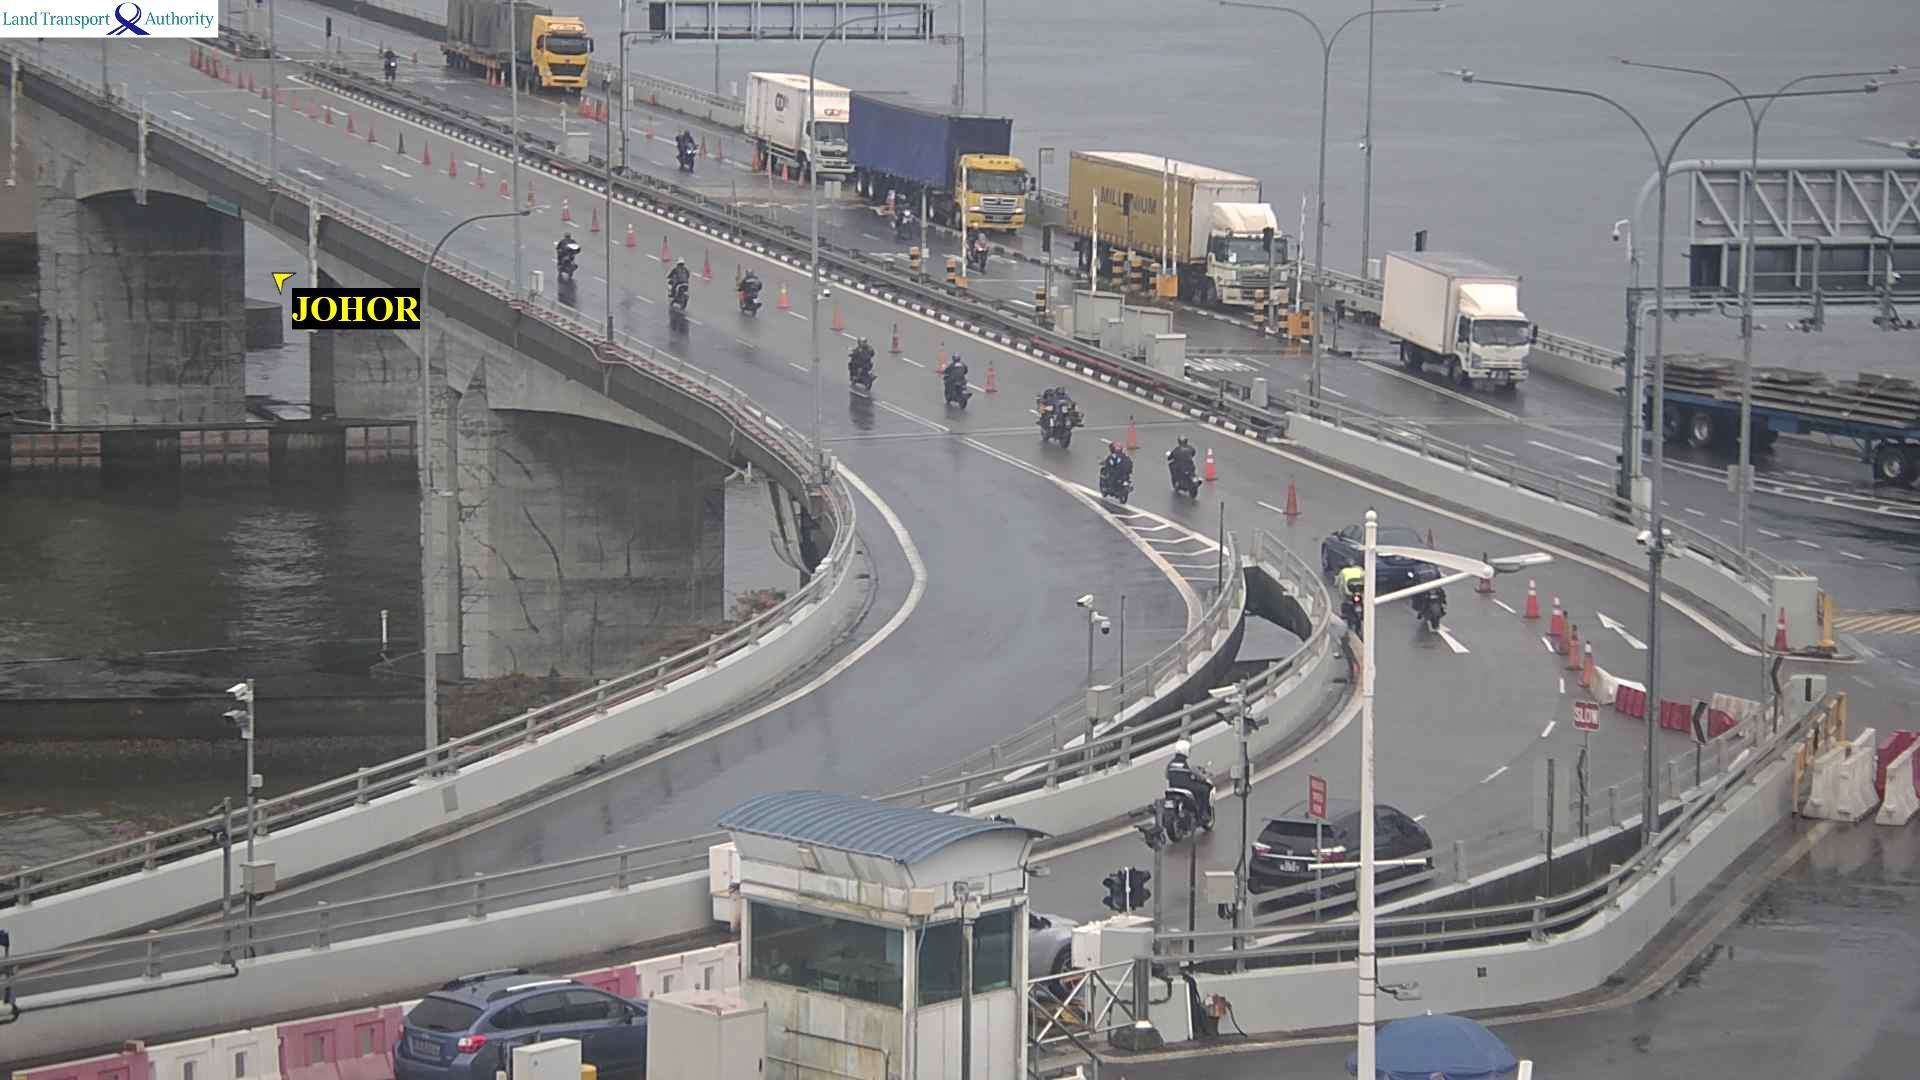vehicle-secondlink-johor: (394, 977, 640, 1080), (1250, 806, 1433, 887), (1156, 757, 1213, 840), (1036, 386, 1079, 448), (1337, 558, 1361, 629), (665, 264, 695, 319), (1164, 442, 1197, 492), (943, 353, 973, 406), (554, 228, 579, 282), (1104, 448, 1127, 502), (1416, 568, 1443, 616), (848, 342, 877, 381), (736, 273, 762, 311)
vehicle-secondlink-singapore: (1701, 186, 1920, 331), (1055, 150, 1283, 276), (857, 88, 1043, 236), (638, 67, 861, 187), (1386, 256, 1544, 402), (369, 0, 596, 87), (744, 55, 862, 182), (1866, 433, 1920, 492), (1873, 289, 1920, 331), (0, 229, 38, 273)
